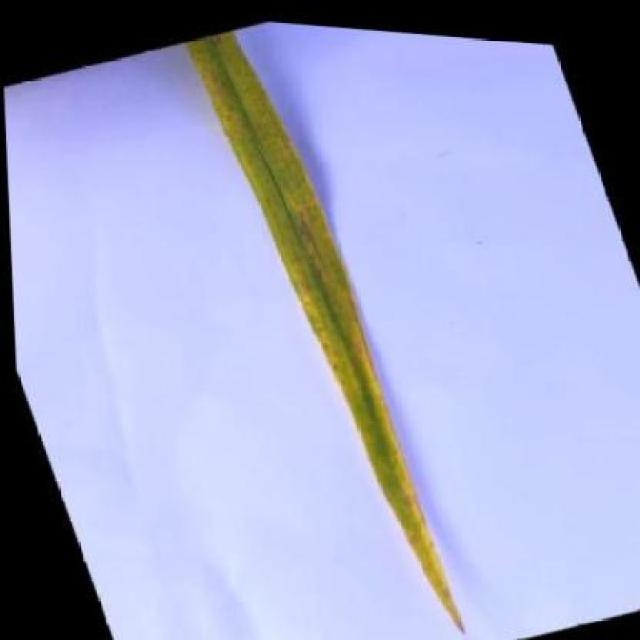Rice False Smut: (179, 15, 478, 640)
